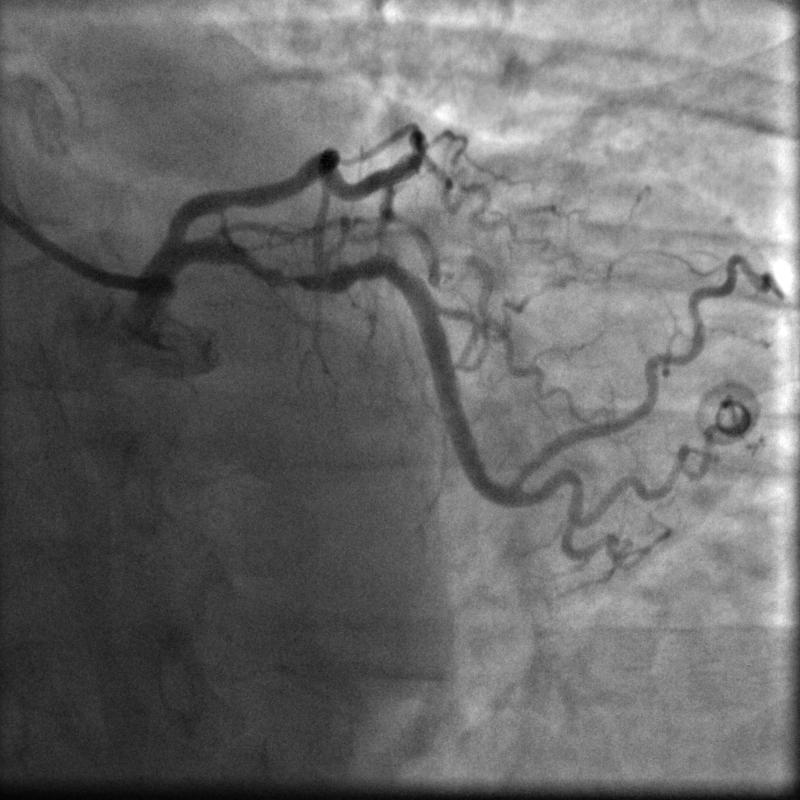Stenosis: (262, 261, 319, 294)
